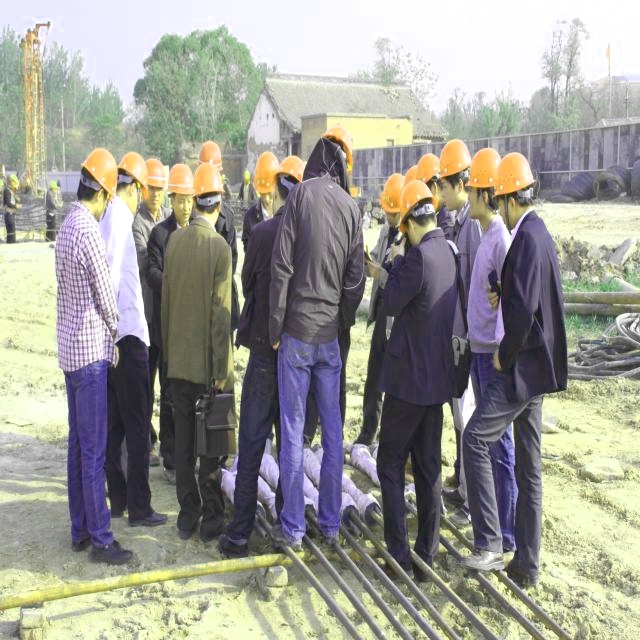Con_Casco: (496, 150, 532, 222), (400, 177, 436, 240)
Sin_Chaleco: (277, 186, 363, 328)
